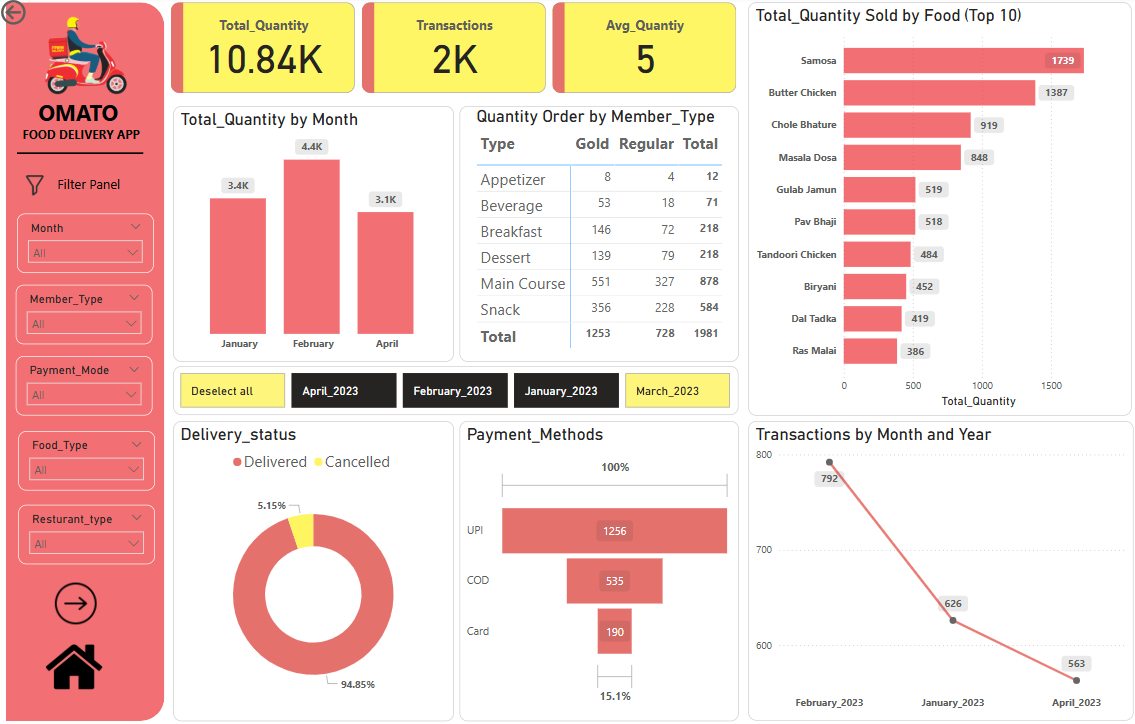

This screenshot's page, from the dashboard's own definition file:
{"tool":"powerbi","page":{"name":"OMATO_Dashboard","canvas":[1400,900],"ordinal":0},"visuals":[{"type":"shape","box":[11,7,194,879],"z":0},{"type":"textbox","box":[9,118.6,187.6,70.5],"z":1000},{"type":"image","box":[45,7.5,129.1,130.6],"z":2000},{"type":"image","box":[28.8,172.9,34.3,118],"z":3000},{"type":"textbox","box":[50.8,214.1,123.5,31.6],"z":4000},{"type":"shape","box":[24.9,174.6,154.3,35.9],"z":5000},{"type":"cardVisual","fields":{"Data":["Sales Data.Total_Quantity","Sales Data.Transactions","Sales Data.Avg_Quantiy"]},"box":[207.8,7.8,701.1,111.1],"z":6000},{"type":"clusteredBarChart","title":"Total_Quantity Sold by Food (Top 10)","fields":{"Category":["Food_Details.Food"],"Y":["Sales Data.Total_Quantity"]},"box":[919.1,7.3,469.1,505.5],"z":9000},{"type":"clusteredColumnChart","fields":{"Category":["Sales Data.orderDate.Variation.Date Hierarchy.Month"],"Y":["Sales Data.Total_Quantity"]},"box":[215.7,134.3,342.9,312.9],"z":10000},{"type":"pivotTable","title":"Quantity Order by Member_Type","fields":{"Columns":["Customer Details.member_Type"],"Rows":["Food_Details.Type"],"Values":["Sales Data.Transactions"]},"box":[565.7,134.3,341.4,312.9],"z":11000},{"type":"donutChart","title":"Delivery_status","fields":{"Category":["Sales Data.deliver_status"],"Y":["Sales Data.Transactions"]},"box":[215.7,520,342.9,367.1],"z":12000},{"type":"funnel","title":"Payment_Methods","fields":{"Category":["Sales Data.payment_method"],"Y":["Sales Data.Transactions"]},"box":[565.7,520,341.4,367.1],"z":13000},{"type":"actionButton","box":[0,0,100,40],"z":14000},{"type":"slicer","fields":{"Values":["Sales Data.orderDate.Variation.Date Hierarchy.Month"]},"box":[23.8,266.2,167.5,72.5],"z":15000},{"type":"slicer","fields":{"Values":["Customer Details.member_Type"]},"box":[22.9,352.9,167.1,72.9],"z":16000},{"type":"lineChart","fields":{"Y":["Sales Data.Transactions"],"Category":["Sales Data.Month and Year"]},"box":[918.9,520,471.1,366.7],"z":17000},{"type":"slicer","fields":{"Values":["Sales Data.payment_method"]},"box":[22.9,440,167.1,72.9],"z":20000},{"type":"slicer","fields":{"Values":["Food_Details.Type"]},"box":[25.7,531.4,167.1,72.9],"z":21000},{"type":"slicer","fields":{"Values":["Resturant_Details.Resturant_type"]},"box":[25.7,621.4,167.1,72.9],"z":22000},{"type":"image","box":[62.9,708.6,67.1,67.1],"z":23000},{"type":"image","box":[55.7,780,78.6,81.4],"z":24000},{"type":"advancedSlicerVisual","fields":{"Values":["Sales Data.Month and Year"]},"box":[215.7,452.9,691.4,60],"z":25000}]}

Visuals, with their boxes in screenshot pixels (x1, y1, x2, y2), scaled from the page's 1400x900 canvas onto the 1135x724 screenshot:
shape: (9, 6, 166, 713)
textbox: (7, 95, 159, 152)
image: (36, 6, 141, 111)
image: (23, 139, 51, 234)
textbox: (41, 172, 141, 198)
shape: (20, 140, 145, 169)
cardVisual - Sales Data.Total_Quantity x Sales Data.Transactions: (168, 6, 737, 96)
"Total_Quantity Sold by Food (Top 10)" clusteredBarChart: (745, 6, 1125, 413)
clusteredColumnChart - Sales Data.orderDate.Variation.Date Hierarchy.Month x Sales Data.Total_Quantity: (175, 108, 453, 360)
"Quantity Order by Member_Type" pivotTable: (459, 108, 735, 360)
"Delivery_status" donutChart: (175, 418, 453, 714)
"Payment_Methods" funnel: (459, 418, 735, 714)
actionButton: (0, 0, 81, 32)
slicer - Sales Data.orderDate.Variation.Date Hierarchy.Month: (19, 214, 155, 272)
slicer - Customer Details.member_Type: (19, 284, 154, 343)
lineChart - Sales Data.Transactions x Sales Data.Month and Year: (745, 418, 1127, 713)
slicer - Sales Data.payment_method: (19, 354, 154, 413)
slicer - Food_Details.Type: (21, 427, 156, 486)
slicer - Resturant_Details.Resturant_type: (21, 500, 156, 559)
image: (51, 570, 105, 624)
image: (45, 627, 109, 693)
advancedSlicerVisual - Sales Data.Month and Year: (175, 364, 735, 413)
